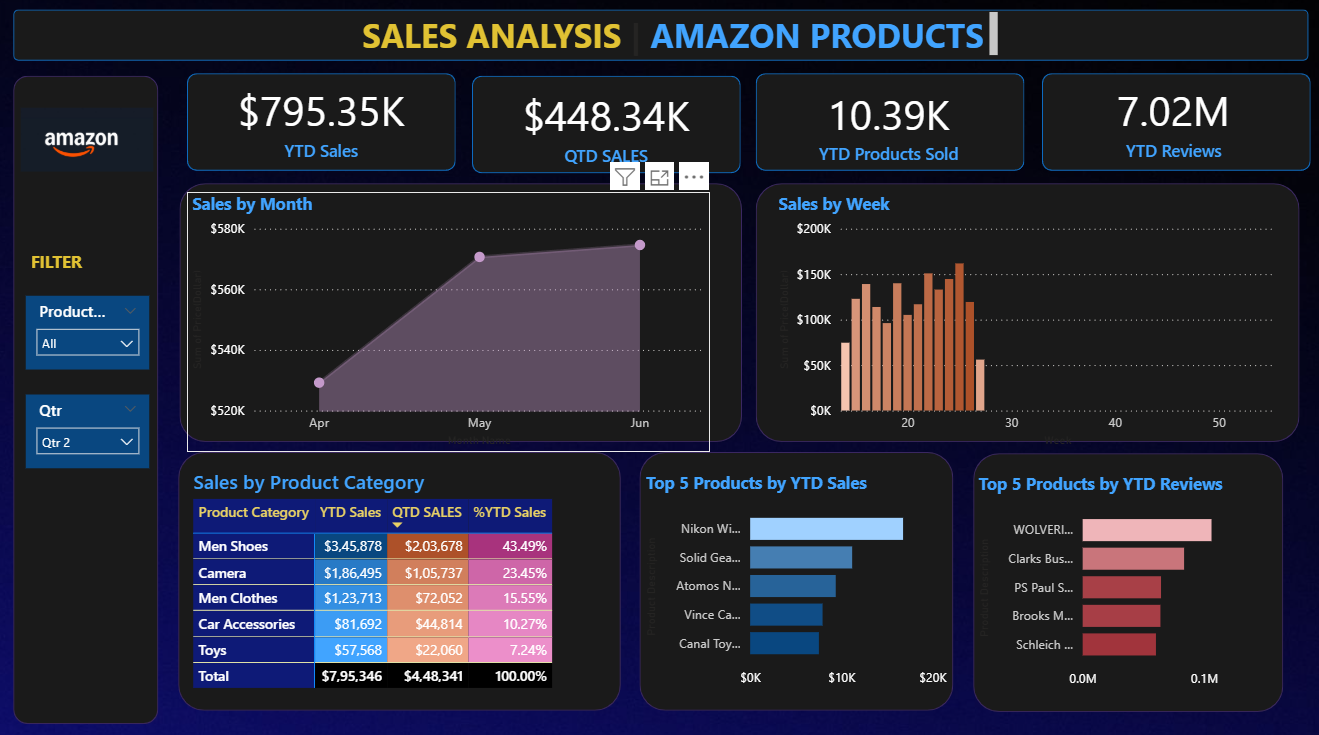

Layout of this report page (visuals, bound fields, positions):
{"tool":"powerbi","page":{"name":"Page 1","canvas":[1280,720],"ordinal":0},"visuals":[{"type":"shape","box":[15.1,12.3,1250.1,49.4],"z":0},{"type":"textbox","box":[347.5,9.7,623.7,51.9],"z":1000},{"type":"shape","box":[15.1,75.5,140,625.7],"z":2000},{"type":"shape","box":[183.4,73.6,259.4,94.1],"z":3000},{"type":"card","fields":{"Values":["Amazon_Data.YTD SALES"]},"box":[749.2,76,259.4,91.7],"z":4000},{"type":"card","fields":{"Values":["Amazon_Data.YTD SALES"]},"box":[458.4,78.4,259.4,91.7],"z":5000},{"type":"shape","box":[458.4,76,259.4,94.1],"z":6000},{"type":"shape","box":[732.3,73.6,259.4,94.1],"z":7000},{"type":"card","fields":{"Values":["Amazon_Data.YTD Products Sold"]},"box":[731.1,77.2,259.4,91.7],"z":8000},{"type":"card","fields":{"Values":["Amazon_Data.QTD SALES"]},"box":[458.4,78.4,259.4,91.7],"z":9000},{"type":"shape","box":[1008.6,73.6,259.4,94.1],"z":10000},{"type":"card","fields":{"Values":["Amazon_Data.YTD Reviews"]},"box":[1006.2,73.6,259.4,91.7],"z":11000},{"type":"shape","box":[176.1,179.8,542.9,249.7],"z":12000},{"type":"areaChart","title":"Sales by Month","fields":{"Category":["Date Table.Month Name"],"Y":["Sum(Amazon_Data.Price(Dollar))"]},"box":[183.4,188.2,504.3,250.9],"z":13000},{"type":"shape","box":[732.3,179.8,524.8,249.7],"z":14000},{"type":"columnChart","title":"Sales by Week","fields":{"Category":["Date Table.Week"],"Y":["Sum(Amazon_Data.Price(Dollar))"]},"box":[749.2,188.2,492.2,250.9],"z":15000},{"type":"shape","box":[174.9,439.1,427.1,249.7],"z":16000},{"type":"pivotTable","title":"Sales by Product Category ","fields":{"Rows":["Amazon_Data.Product Category"],"Values":["Amazon_Data.YTD Sales1","Amazon_Data.QTD SALES","Amazon_Data.YTD Sales"]},"box":[184.6,454.8,409,218.4],"z":17000},{"type":"card","fields":{"Values":["Amazon_Data.YTD Sales"]},"box":[183.4,73.6,259.4,91.7],"z":18000},{"type":"shape","box":[620.1,439.1,302.8,249.7],"z":19000},{"type":"shape","box":[942.2,440.4,299.2,249.7],"z":20000},{"type":"barChart","title":"Top 5 Products by YTD Sales","fields":{"Category":["Amazon_Data.Product Description"],"Y":["Amazon_Data.YTD Sales"]},"box":[621.5,457.6,300.8,218.1],"z":21000},{"type":"barChart","title":"Top 5 Products by YTD Reviews","fields":{"Category":["Amazon_Data.Product Description"],"Y":["Amazon_Data.YTD Reviews"]},"box":[942.2,459,300.8,218.1],"z":22000},{"type":"slicer","fields":{"Values":["Amazon_Data.Product Category"]},"box":[27.7,288.3,119.4,71.2],"z":23000},{"type":"slicer","fields":{"Values":["Date Table.Qtr"]},"box":[27.7,383.6,119.4,71.2],"z":24000},{"type":"image","box":[18.1,86.9,137.5,101.3],"z":25000},{"type":"textbox","box":[27.7,238.9,70,35],"z":26000}]}

Visuals, with their boxes in screenshot pixels (x1, y1, x2, y2), scaled from the page's 1280x720 canvas onto the 1319x735 screenshot:
shape: bbox=[16, 13, 1304, 63]
textbox: bbox=[358, 10, 1001, 63]
shape: bbox=[16, 77, 160, 716]
shape: bbox=[189, 75, 456, 171]
card - Amazon_Data.YTD SALES: bbox=[772, 78, 1039, 171]
card - Amazon_Data.YTD SALES: bbox=[472, 80, 740, 174]
shape: bbox=[472, 78, 740, 174]
shape: bbox=[755, 75, 1022, 171]
card - Amazon_Data.YTD Products Sold: bbox=[753, 79, 1021, 172]
card - Amazon_Data.QTD SALES: bbox=[472, 80, 740, 174]
shape: bbox=[1039, 75, 1307, 171]
card - Amazon_Data.YTD Reviews: bbox=[1037, 75, 1304, 169]
shape: bbox=[181, 184, 741, 438]
"Sales by Month" areaChart: bbox=[189, 192, 709, 448]
shape: bbox=[755, 184, 1295, 438]
"Sales by Week" columnChart: bbox=[772, 192, 1279, 448]
shape: bbox=[180, 448, 620, 703]
"Sales by Product Category " pivotTable: bbox=[190, 464, 612, 687]
card - Amazon_Data.YTD Sales: bbox=[189, 75, 456, 169]
shape: bbox=[639, 448, 951, 703]
shape: bbox=[971, 450, 1279, 704]
"Top 5 Products by YTD Sales" barChart: bbox=[640, 467, 950, 690]
"Top 5 Products by YTD Reviews" barChart: bbox=[971, 469, 1281, 691]
slicer - Amazon_Data.Product Category: bbox=[29, 294, 152, 367]
slicer - Date Table.Qtr: bbox=[29, 392, 152, 464]
image: bbox=[19, 89, 160, 192]
textbox: bbox=[29, 244, 101, 280]
